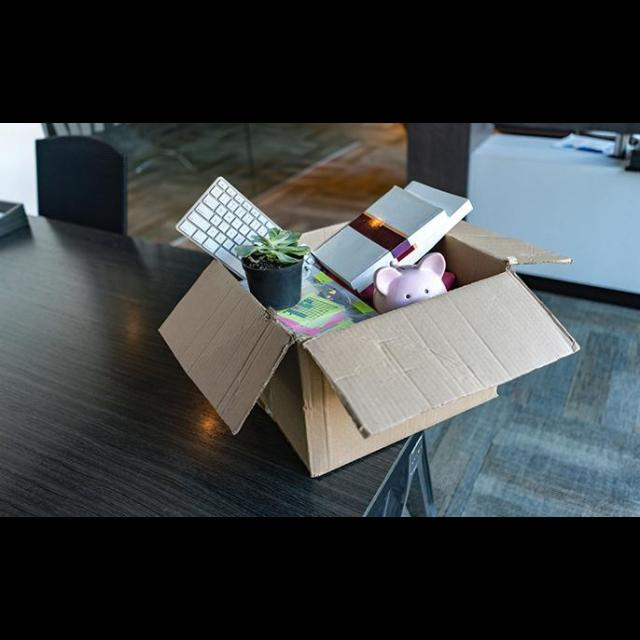papelão: (157, 220, 581, 478)
